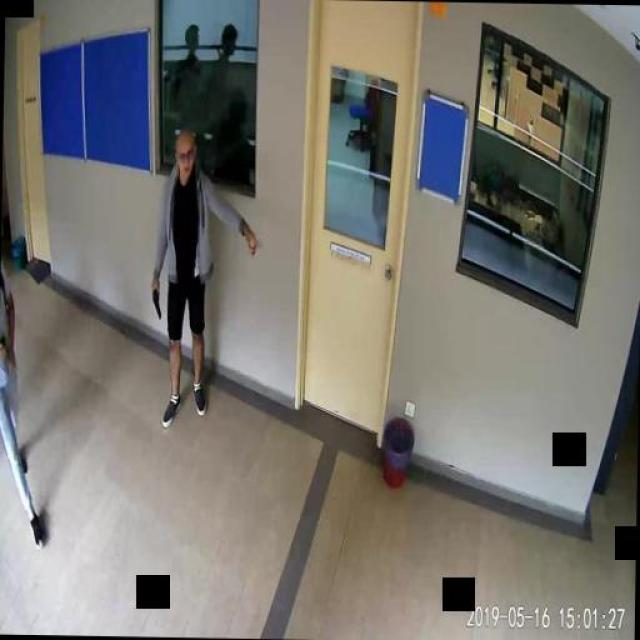gun: (150, 282, 160, 318)
